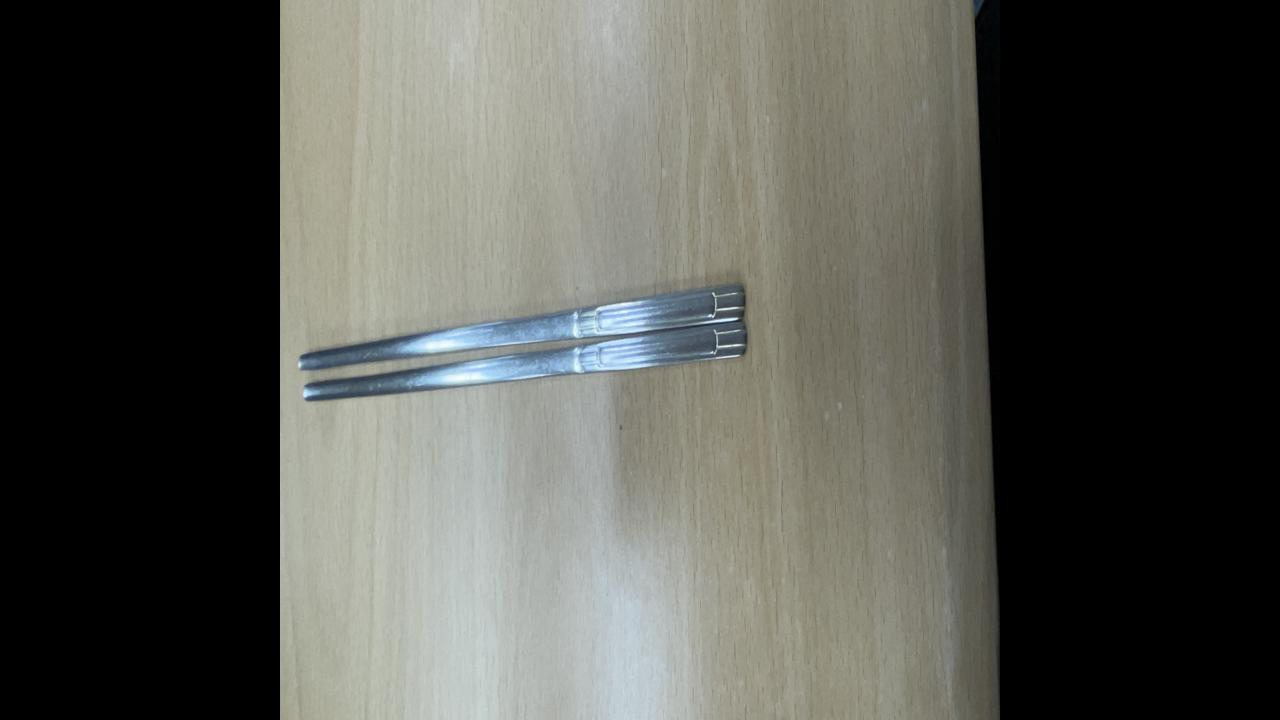chopstick: (296, 274, 748, 414)
